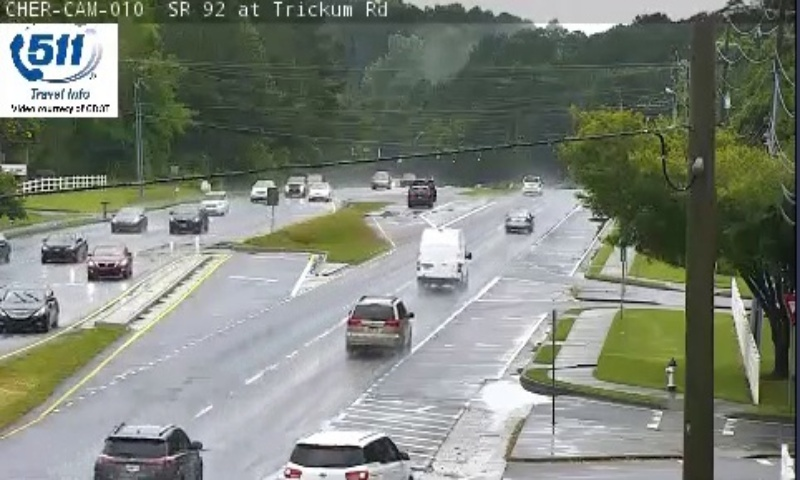car: (94, 425, 202, 480), (346, 297, 409, 348), (504, 209, 532, 234)
van: (418, 229, 466, 285)
